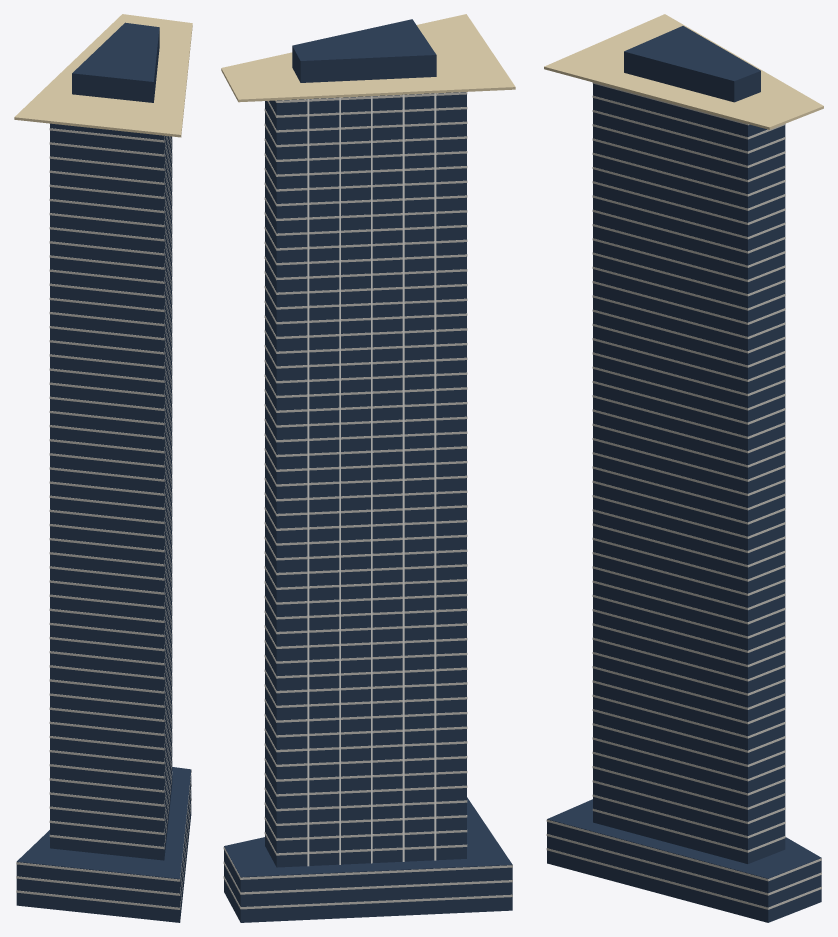
File: paramount-hotel-midtown.glb
3 renders of one model, left to right at view 1: azimuth 30°, elevation 25°; view 2: azimuth 150°, elevation 25°; view 3: azimuth 270°, elevation 25°, orthographic. The views are drawn at different scales.
Parts seen in each view (by area): view 1: B_1146969101_paramount-hotel-midtown, B_1146969101_paramount-hotel-midtown_gold, band.831, band.829, band.830, band.857, band.865, band.834, band.842, band.843, band.847, band.851 (+41 smaller); view 2: B_1146969101_paramount-hotel-midtown, B_1146969101_paramount-hotel-midtown_gold, mullion.059, mullion.055, mullion.058, mullion.056, mullion.057, band.830, band.831, band.829, band.872, band.844 (+45 smaller); view 3: B_1146969101_paramount-hotel-midtown, B_1146969101_paramount-hotel-midtown_gold, band.830, band.831, band.829, band.837, band.852, band.864, band.868, band.871, band.836, band.840 (+23 smaller).
Part boxes in pixels (x1,y1,x2,y2): B_1146969101_paramount-hotel-midtown: (16,22,191,922); B_1146969101_paramount-hotel-midtown_gold: (14,14,192,137); band.831: (16,770,191,881); band.829: (16,798,191,909); band.830: (16,784,191,895); band.857: (49,418,172,495); band.865: (49,305,172,382); band.834: (49,743,172,820); band.842: (49,630,172,707); band.843: (49,616,172,693); band.847: (49,559,172,637); band.851: (49,503,172,580); B_1146969101_paramount-hotel-midtown: (224,19,512,922); B_1146969101_paramount-hotel-midtown_gold: (221,14,515,102); mullion.059: (434,93,436,860); mullion.055: (307,99,309,866); mullion.058: (402,94,404,861); mullion.056: (339,97,340,864); mullion.057: (371,96,372,863); band.830: (223,861,512,894); band.831: (223,847,512,879); band.829: (223,876,512,909); band.872: (264,241,467,265); band.844: (264,654,467,678); B_1146969101_paramount-hotel-midtown: (547,26,821,922); B_1146969101_paramount-hotel-midtown_gold: (544,14,823,129); band.830: (546,834,821,895); band.831: (546,819,821,881); band.829: (546,848,821,909); band.837: (592,737,785,781); band.852: (592,523,785,567); band.864: (592,352,785,396); band.868: (592,295,785,338); band.871: (592,252,785,296); band.836: (592,752,785,795); band.840: (592,694,785,738).
Size of the model in its own units: 76.72 by 258 by 80.05.
